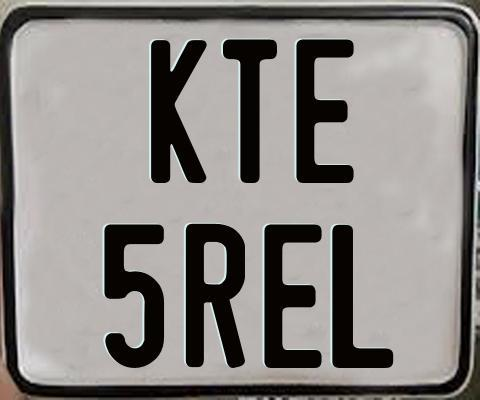5: (104, 224, 168, 369)
E: (263, 221, 325, 370), (295, 36, 356, 180)
K: (150, 38, 211, 183)
L: (331, 222, 397, 365)
R: (184, 223, 245, 372)
T: (221, 37, 278, 183)
